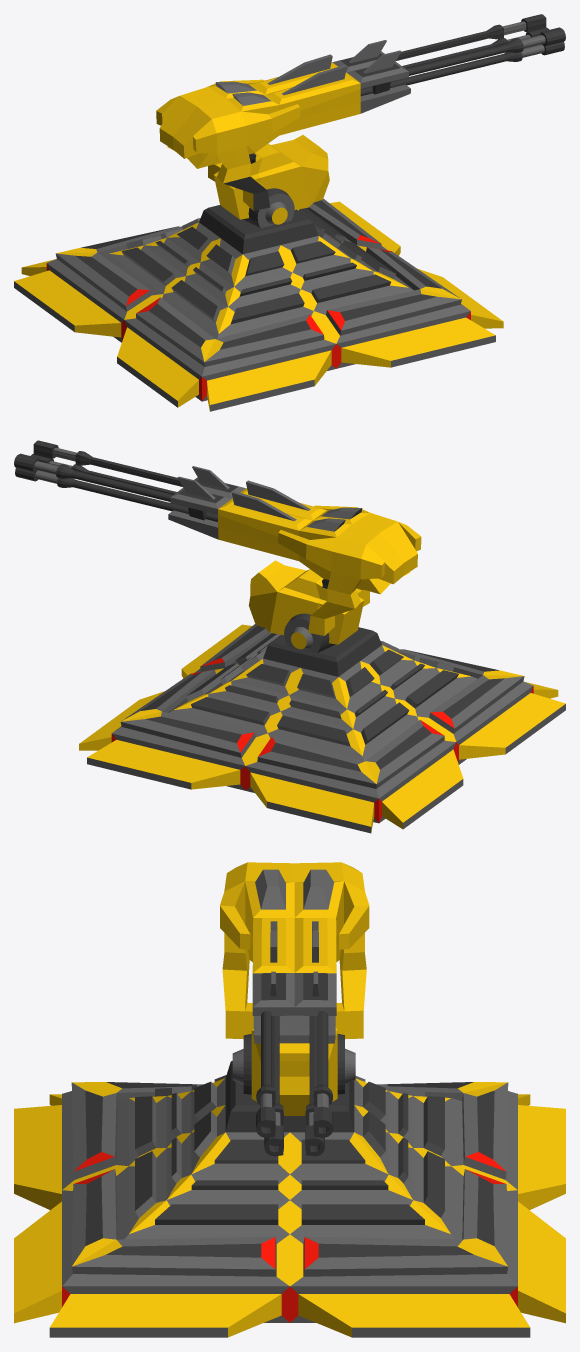
The model's file is cannon.fbx.
The picture shows the model from 3 angles, top to bottom: view 1: azimuth 30°, elevation 25°; view 2: azimuth 150°, elevation 25°; view 3: azimuth 270°, elevation 25°; orthographic projection. The views are drawn at different scales.
Parts seen in each view (by area): view 1: Cube, Cube.001; view 2: Cube, Cube.001; view 3: Cube, Cube.001.
Boxes of the visible parts, x1,y1,x2,y2 form: Cube: (14, 198, 503, 411); Cube.001: (156, 14, 565, 228); Cube: (79, 624, 565, 833); Cube.001: (14, 440, 421, 653); Cube: (14, 1061, 565, 1337); Cube.001: (220, 862, 369, 1156).
Size of the model in its own units: 484 by 249 by 342.
